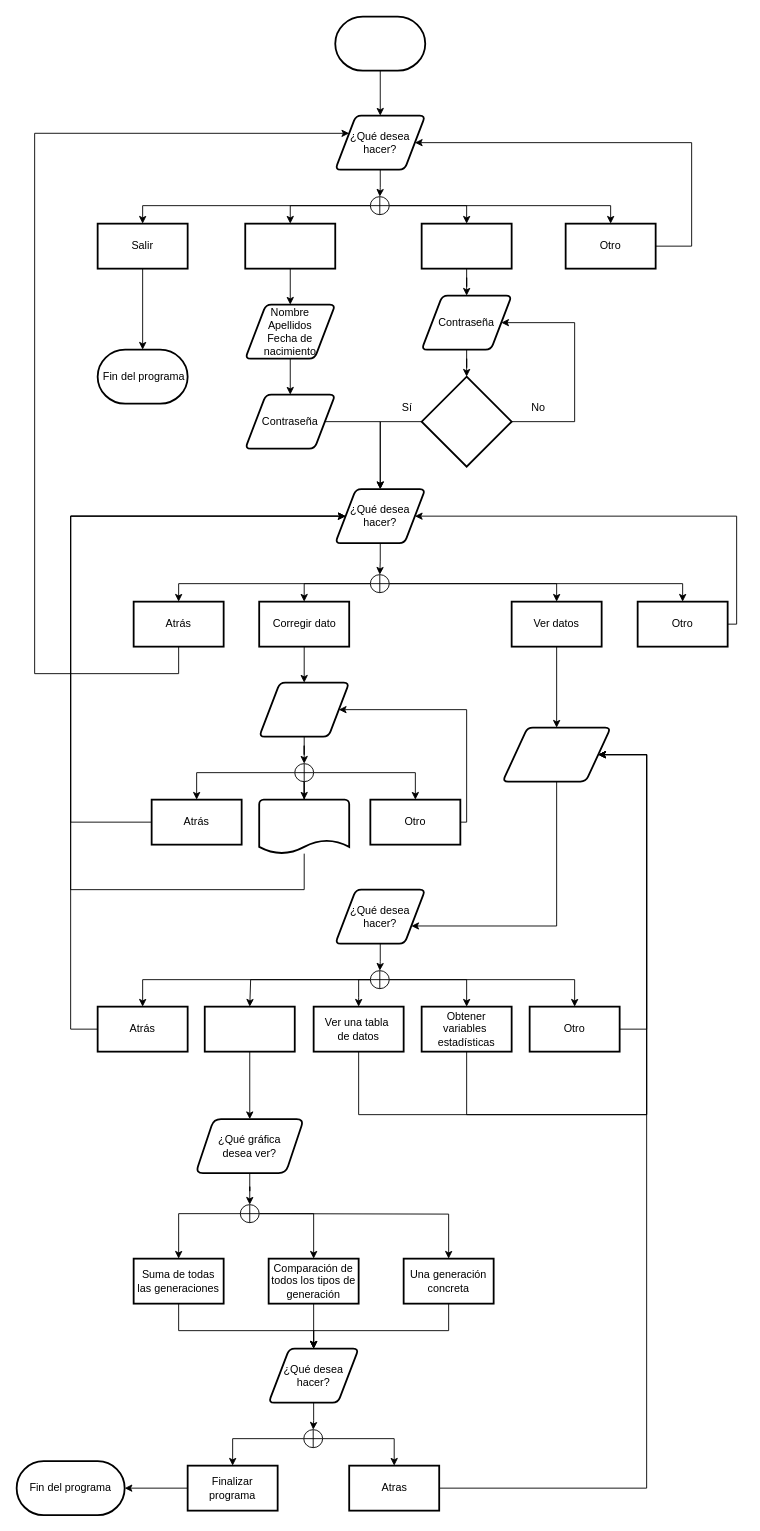
Some shapes in this 760 by 1531 pixel diagram are drawn without their labels. Here are the shapes that lost their labels. From the top down, the box of each, then its label:
(334, 15, 426, 71): Inicio del programa
(244, 222, 336, 269): Registrarse
(420, 222, 512, 269): Iniciar sesión
(420, 375, 512, 467): ¿Es correcta?
(258, 681, 350, 737): ¿De qué mes y que energía?
(501, 726, 611, 782): Desde cuando y hasta cuando
(258, 798, 350, 854): Dato correcto almacenado en fichero
(203, 1005, 295, 1052): Ver gráfica
